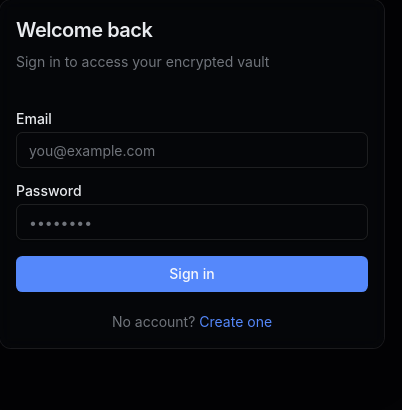
Test: LoginForm › shows validation error for empty email
Click the button "Sign in".
click(192, 274)  # box [16,256,368,292]
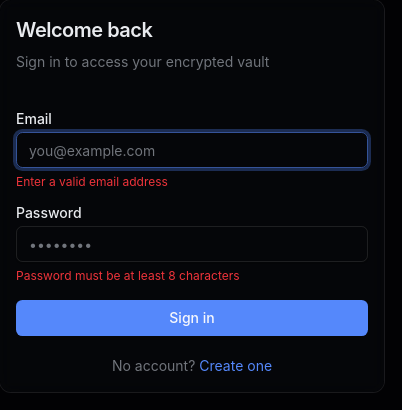
Expected: the text "Enter a valid email address" is shown, [16,174,168,189]
